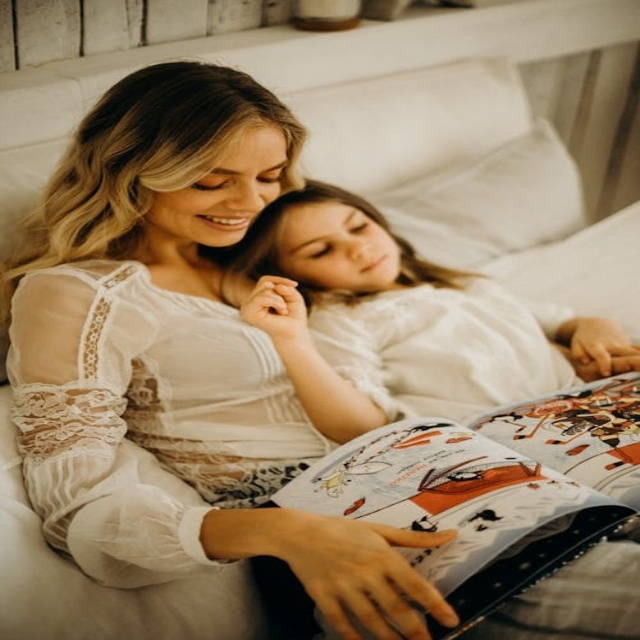Sin_gafas: (284, 205, 374, 263), (180, 156, 298, 197)
Sin_guantes: (232, 510, 462, 640), (560, 317, 640, 380)
Sin_mascara: (186, 208, 255, 244), (351, 250, 396, 288)
